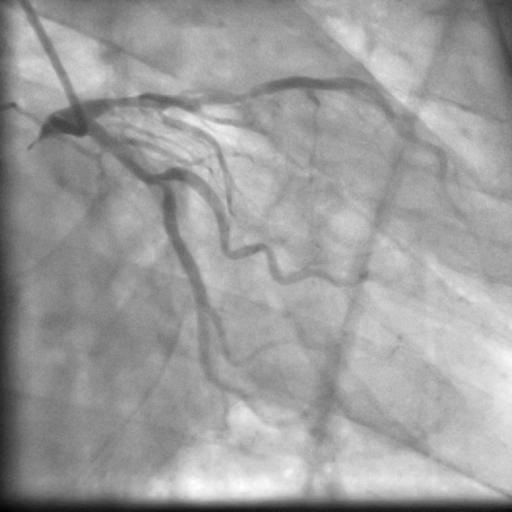Stenosis: (182, 84, 253, 104)
